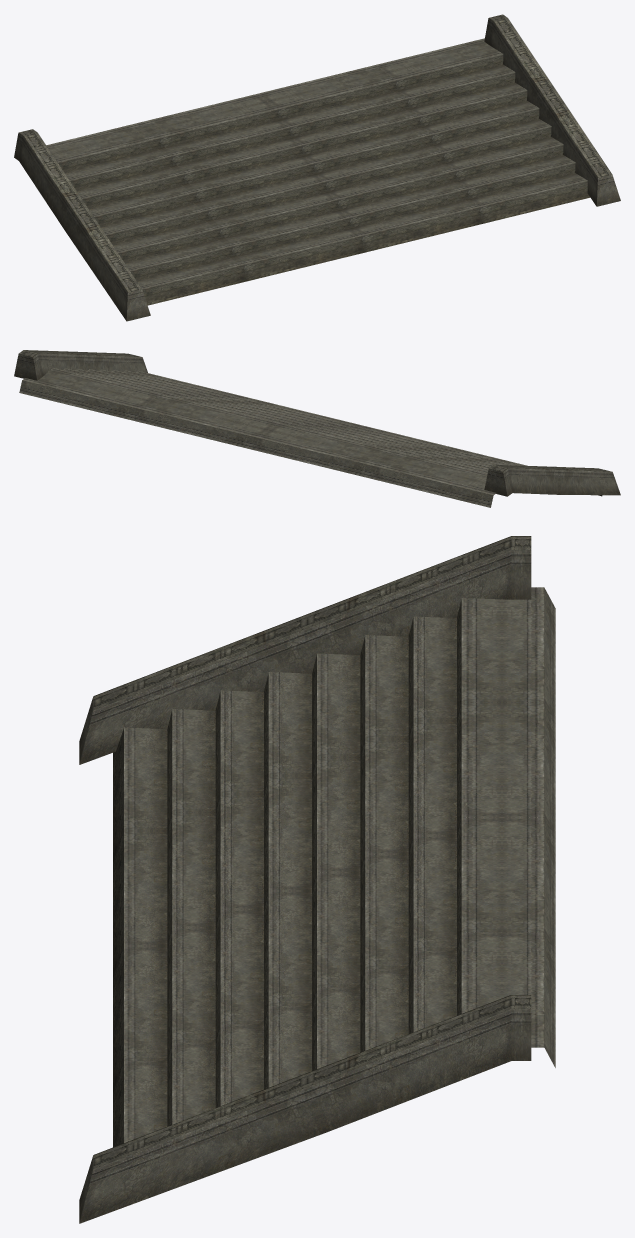
File: dawnmist_step00.fbx
The picture shows the model from 3 angles, top to bottom: view 1: azimuth 30°, elevation 25°; view 2: azimuth 150°, elevation 25°; view 3: azimuth 270°, elevation 25°; orthographic projection. The views are drawn at different scales.
Visible parts, largest first — view 1: DawnMist_step01; view 2: DawnMist_step01; view 3: DawnMist_step01.
Boxes of the visible parts, x1=… form: DawnMist_step01: x1=14, y1=14, x2=620, y2=321; DawnMist_step01: x1=14, y1=350, x2=620, y2=507; DawnMist_step01: x1=79, y1=536, x2=555, y2=1223.
Size of the model in its own units: 31.08 by 6.31 by 12.97.
